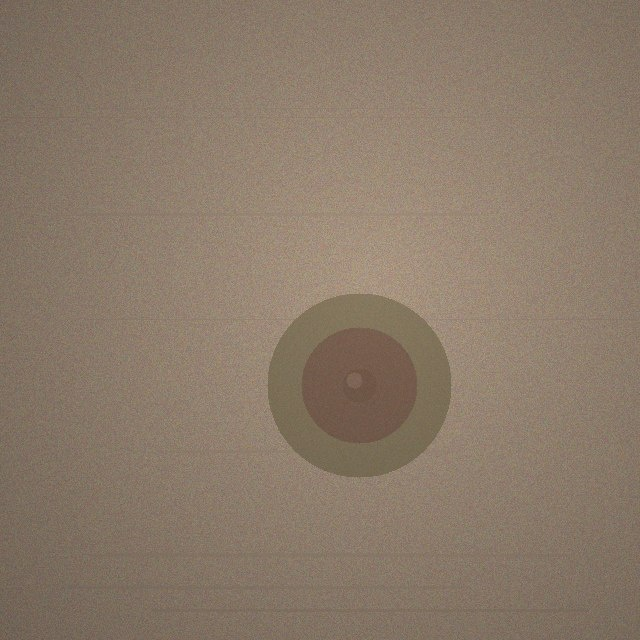good: (267, 293, 451, 477)
